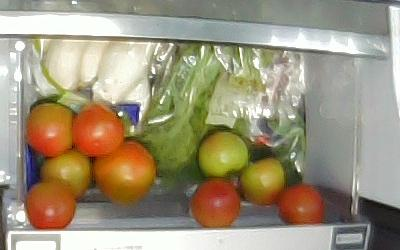tomato: (94, 141, 155, 204), (71, 103, 124, 157), (25, 103, 76, 156), (197, 131, 248, 181), (39, 151, 90, 200), (190, 178, 240, 225), (27, 181, 75, 229), (240, 158, 284, 207), (279, 185, 323, 224)
